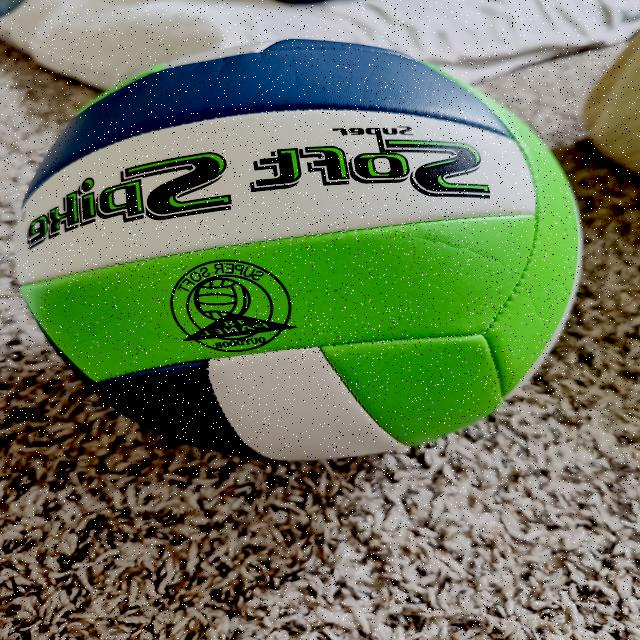ball: (8, 30, 576, 461)
